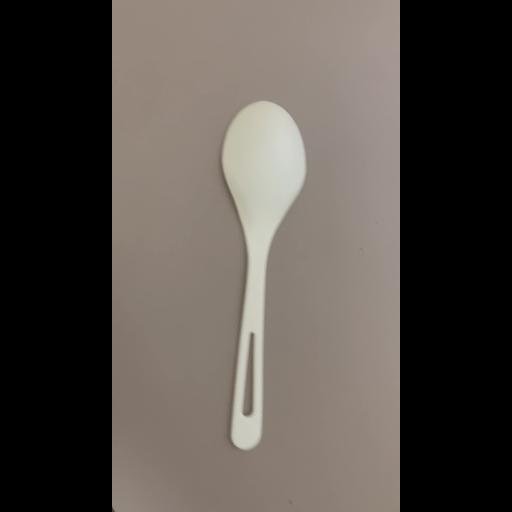utensil: (198, 94, 334, 460)
